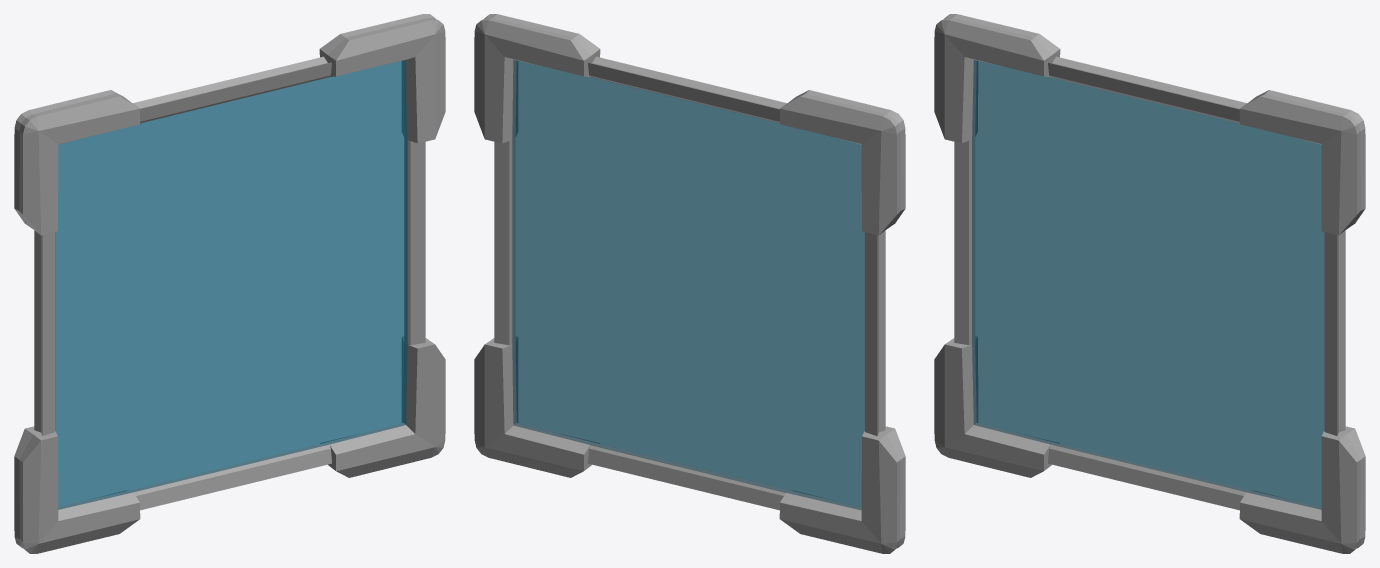
Rendered from Shield_01.fbx.
3 views of the same model, side by side, from view 1: azimuth 30°, elevation 25°; view 2: azimuth 150°, elevation 25°; view 3: azimuth 330°, elevation 25° (orthographic).
Parts seen in each view (by area): view 1: shieldGlass, shieldFrame; view 2: shieldGlass, shieldFrame; view 3: shieldGlass, shieldFrame.
Boxes of the visible parts, x1,y1,x2,y2 form: shieldGlass: (55,60,407,509); shieldFrame: (14,14,445,553); shieldGlass: (512,60,864,509); shieldFrame: (474,14,905,553); shieldGlass: (972,60,1324,509); shieldFrame: (934,14,1365,553).
Bounding box in the file's own units: 659 × 652 × 44.37.
